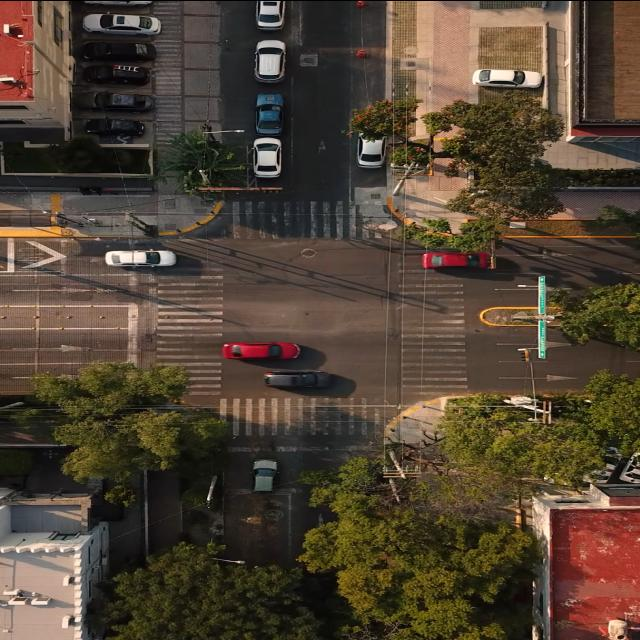cars: (82, 12, 162, 35), (81, 42, 158, 62), (86, 118, 146, 143), (104, 248, 178, 268), (254, 39, 288, 82), (85, 64, 151, 86), (222, 341, 301, 359), (473, 68, 544, 88), (95, 92, 156, 114), (421, 251, 495, 269), (263, 370, 333, 388), (255, 92, 285, 134), (252, 137, 282, 177), (356, 132, 388, 168), (255, 0, 288, 30), (252, 458, 279, 492), (82, 0, 156, 6)
